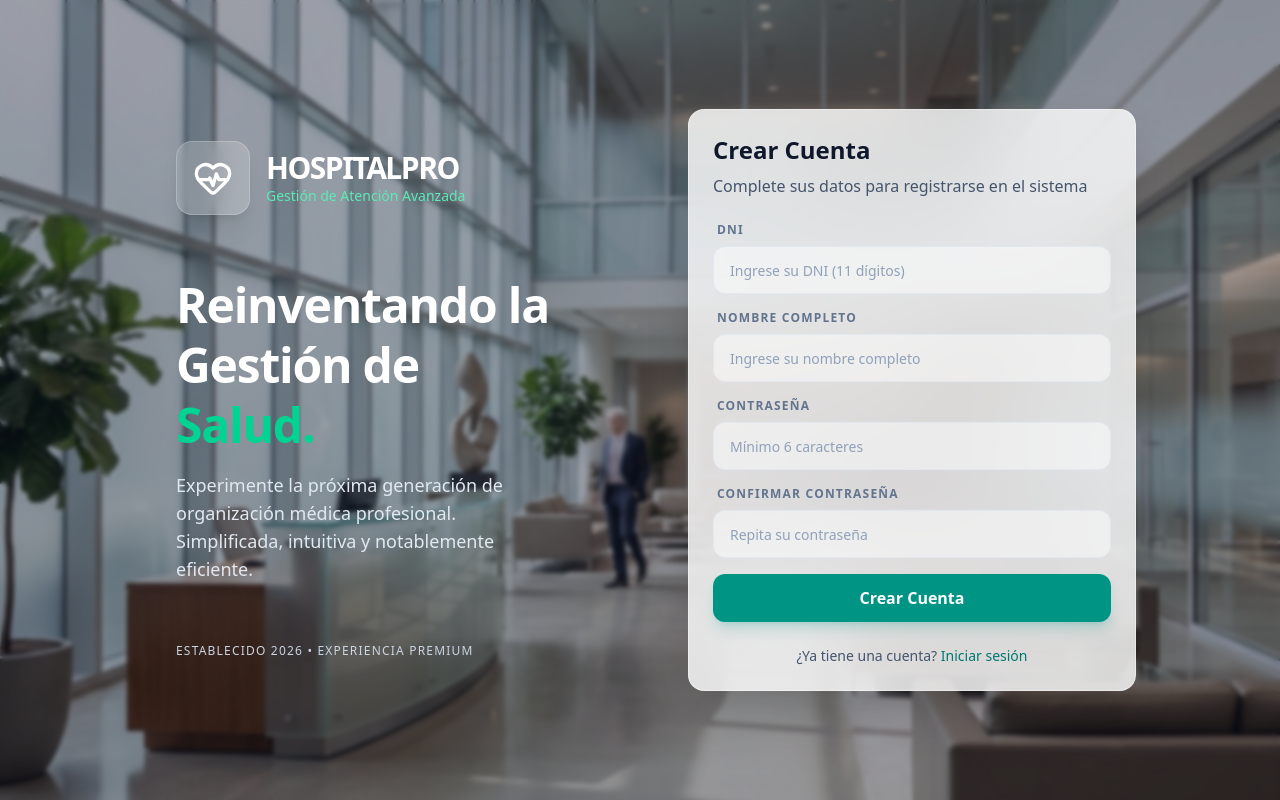
it: Register › shows error when passwords do not match
Type "12345678901" into the field labelled "DNI" at (912, 270), box [713,246,1111,294]
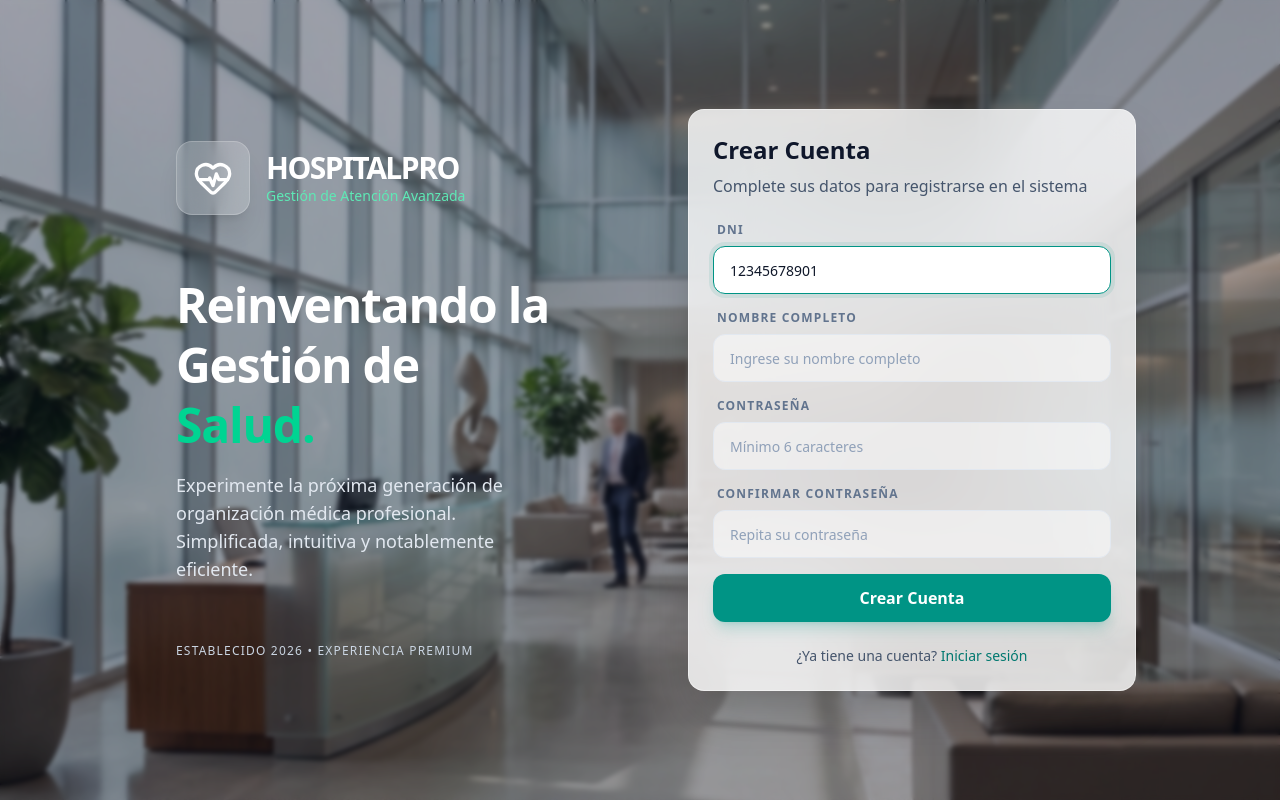
Type "Test User" into the field labelled "Nombre Completo" at (912, 358), box [713,334,1111,382]
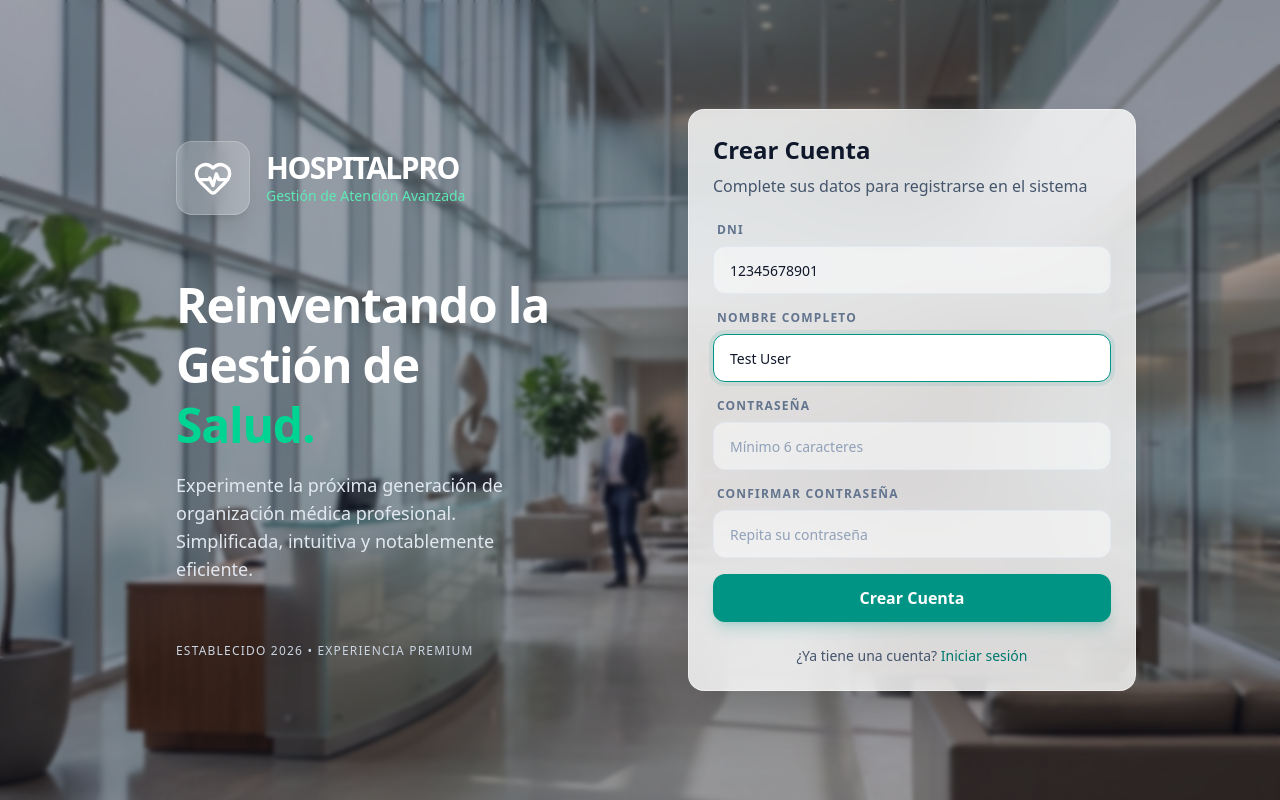
Type "password123" into the password field labelled "Contraseña" at (912, 446), box [713,422,1111,470]
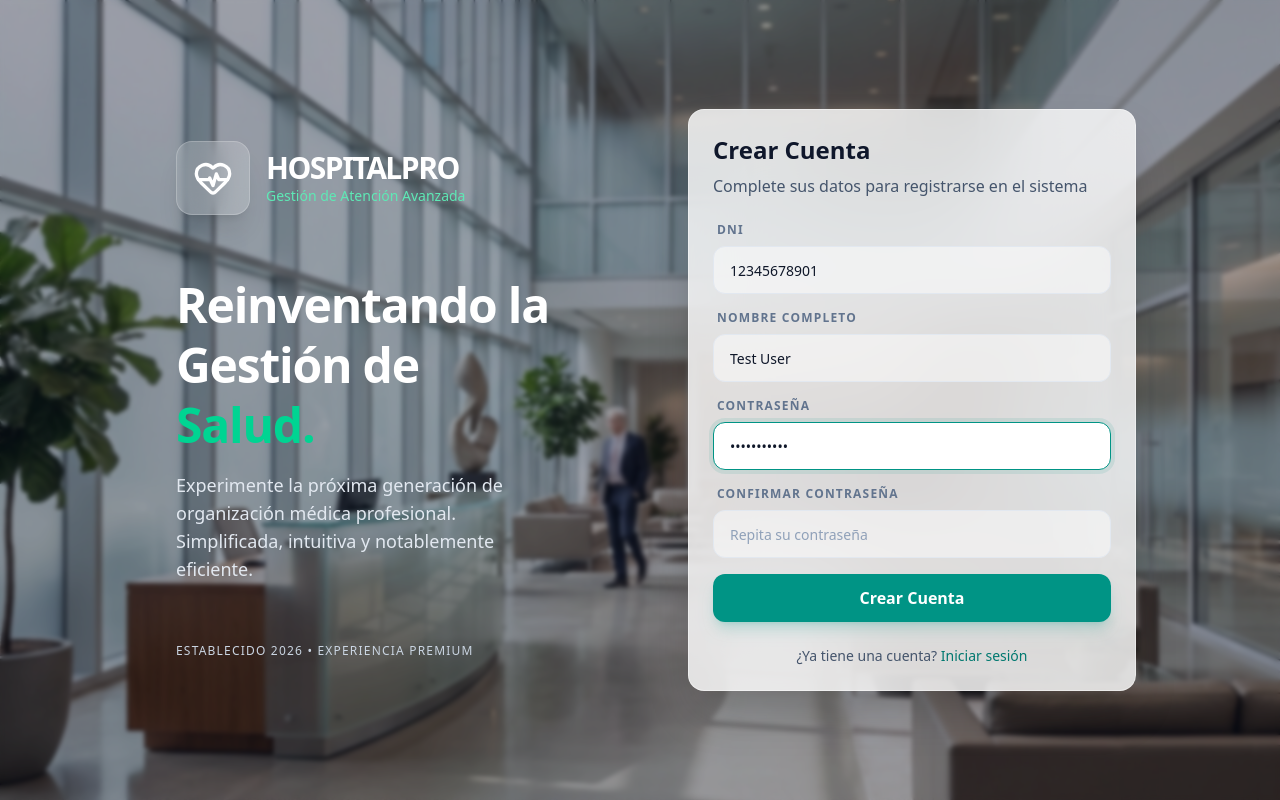
Type "differentpassword" into the password field labelled "Confirmar Contraseña" at (912, 534), box [713,510,1111,558]
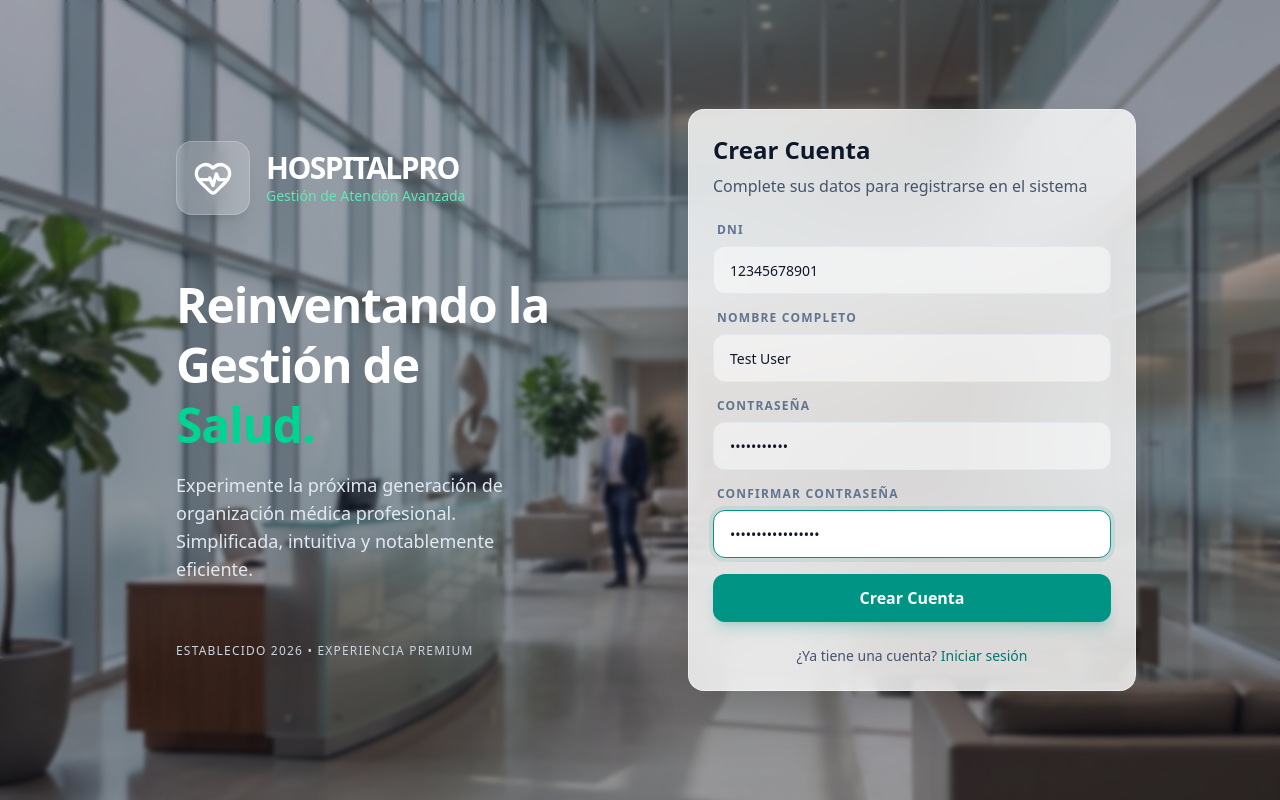
Click the button "Crear Cuenta" at (912, 598), box [713,574,1111,622]
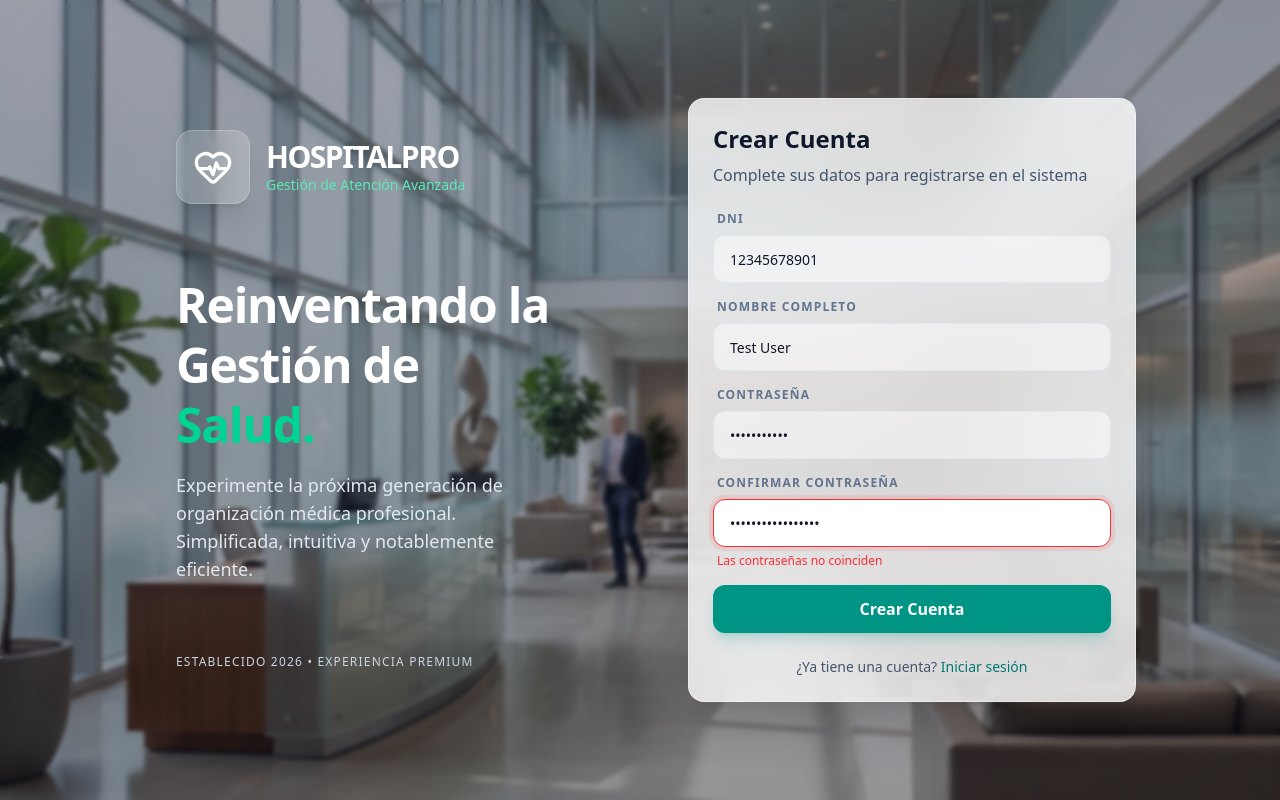
Result: the text "Las contraseñas no coinciden" is shown at [717,552,882,569]
